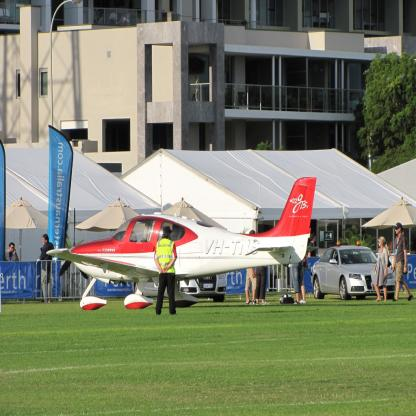Car: (309, 248, 386, 306)
